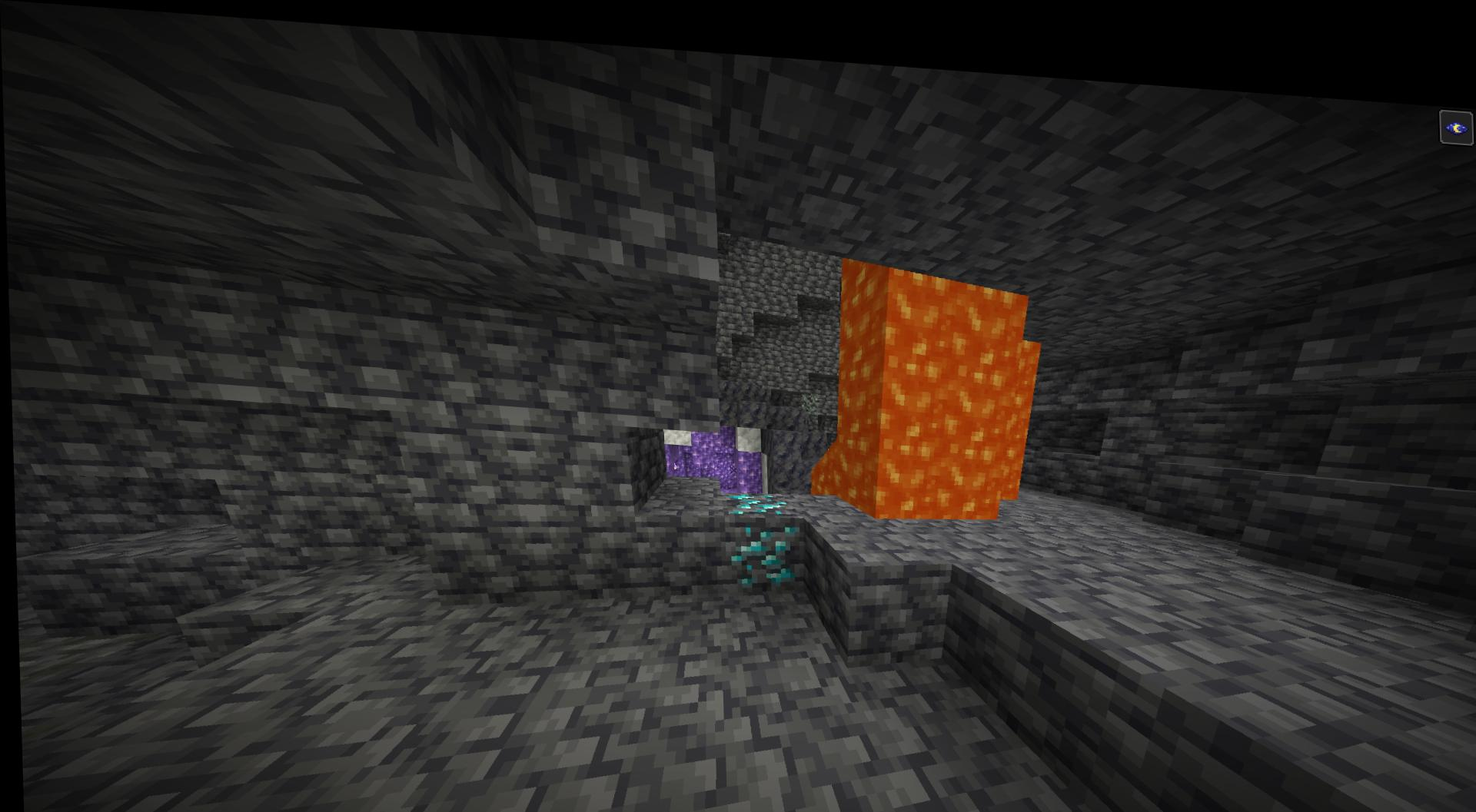diamond ore: (718, 475, 802, 582)
